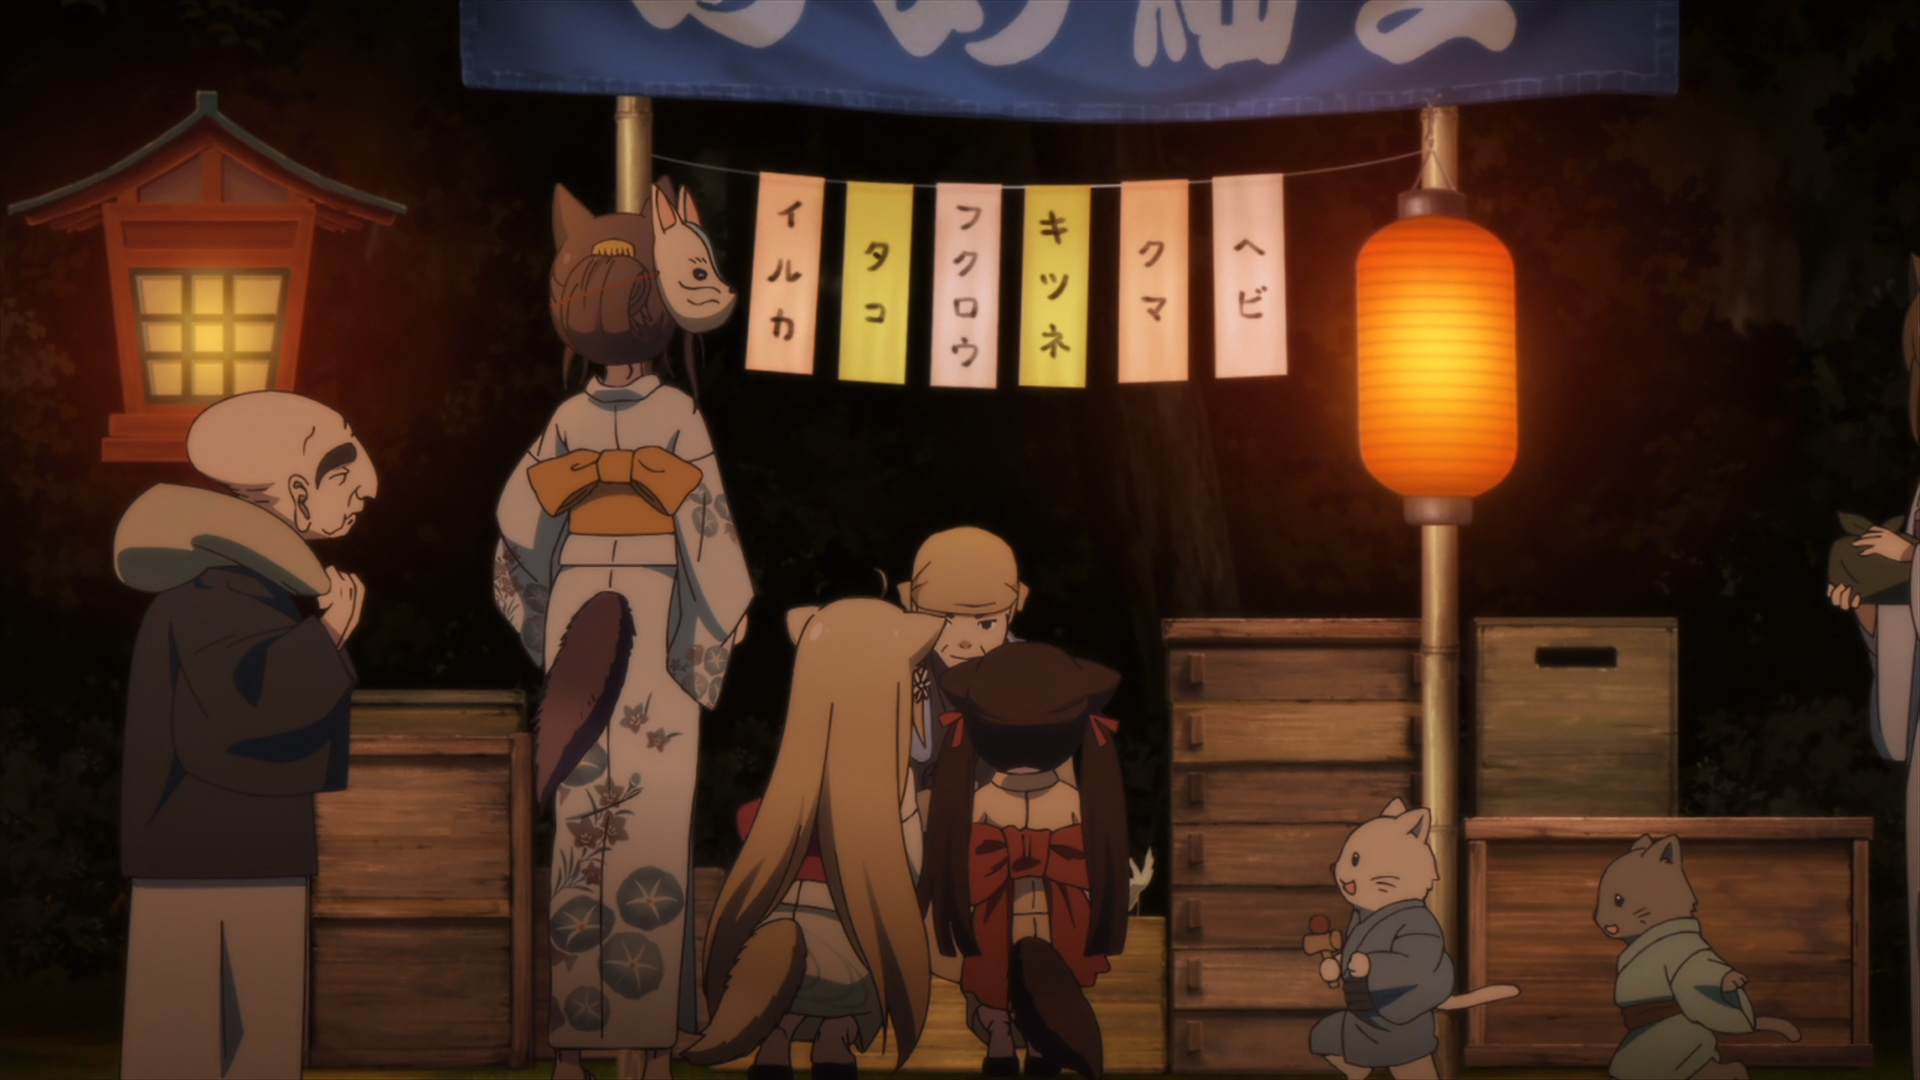其他: (112, 393, 378, 1080), (1828, 272, 1920, 978), (1305, 799, 1519, 1080), (1596, 831, 1804, 1080), (898, 524, 1033, 837)
柚: (676, 572, 944, 1080)
樱: (920, 644, 1127, 1080)
皋: (496, 175, 756, 1080)
